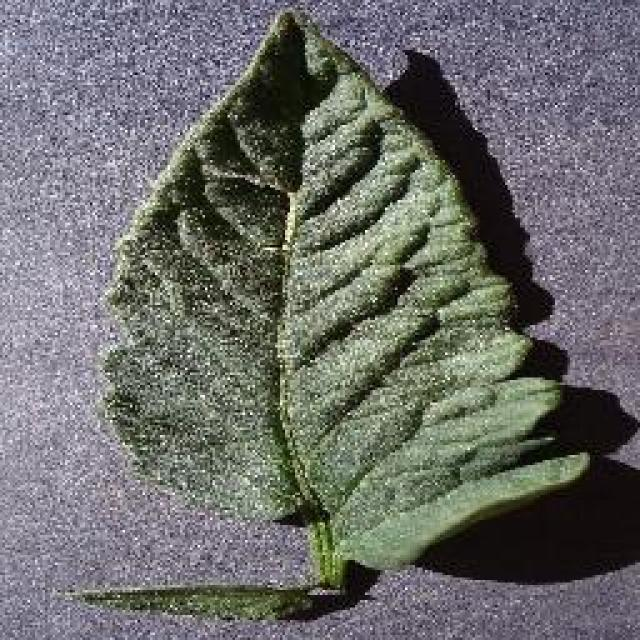Tomato_Healthy: (63, 10, 611, 628)
